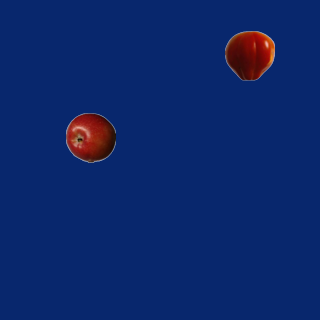Apple Braeburn: (65, 112, 115, 162)
Tomato 1: (224, 30, 274, 80)
